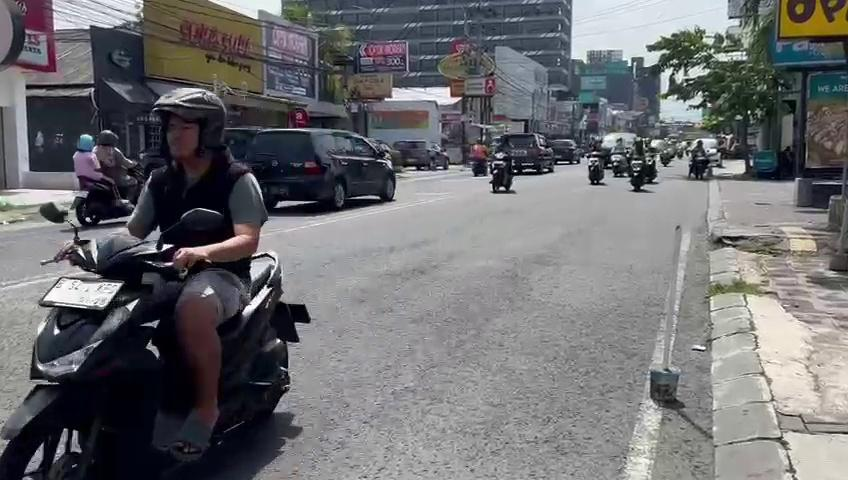helm: (148, 85, 231, 167)
riding: (0, 83, 315, 479)
